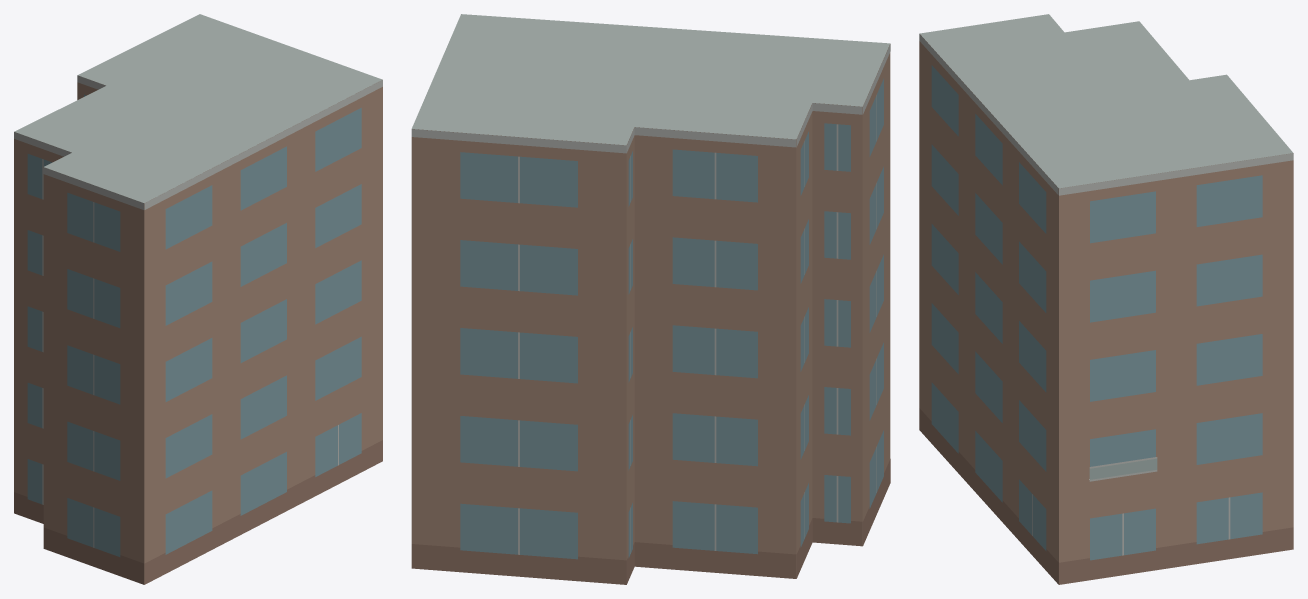
Rendered from survey-upis-33028864.glb.
3 renders of one model, left to right at view 1: azimuth 30°, elevation 25°; view 2: azimuth 150°, elevation 25°; view 3: azimuth 270°, elevation 25°, orthographic. The views are drawn at different scales.
Parts seen in each view (by area): view 1: survey-upis-33028864.tmp; view 2: survey-upis-33028864.tmp; view 3: survey-upis-33028864.tmp.
Boxes of the visible parts, x1,y1,x2,y2 form: survey-upis-33028864.tmp: (14, 14, 382, 584); survey-upis-33028864.tmp: (411, 14, 890, 584); survey-upis-33028864.tmp: (919, 14, 1293, 584).
Size of the model in its own units: 12.51 by 13.25 by 11.34.
